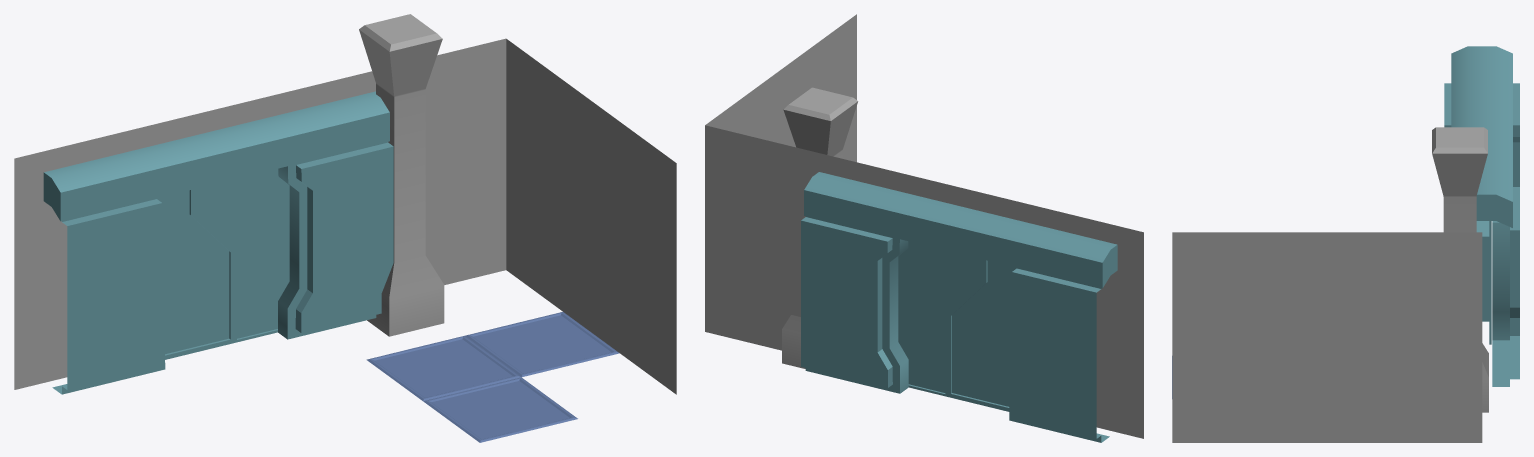
File: LAB_BASE_V3_ConNuevoPilar.fbx
3 renders of one model, left to right at view 1: azimuth 30°, elevation 25°; view 2: azimuth 150°, elevation 25°; view 3: azimuth 270°, elevation 25°, orthographic. The views are drawn at different scales.
Visible parts, largest first — view 1: Base_Puerta, Esquina, Pilar, Pared, Pared_02, Puerta_02, Puerta_01, pCube33, pCube34, pCube32; view 2: Base_Puerta, Esquina, Puerta_02, Puerta_01, Pilar, Pared_02, Pared; view 3: Pared, Pared_02, Esquina, Base_Puerta, Pilar, Puerta_01.
Boxes of the visible parts, <box> form: Base_Puerta: <box>14,71,393,394</box>; Esquina: <box>425,38,562,311</box>; Pilar: <box>359,14,444,336</box>; Pared: <box>563,80,619,352</box>; Pared_02: <box>620,122,676,394</box>; Puerta_02: <box>153,189,234,359</box>; Puerta_01: <box>195,168,289,342</box>; pCube33: <box>423,377,577,442</box>; pCube34: <box>465,312,619,377</box>; pCube32: <box>366,336,520,401</box>; Base_Puerta: <box>793,147,1143,442</box>; Esquina: <box>705,88,792,350</box>; Puerta_02: <box>947,259,1019,411</box>; Puerta_01: <box>898,241,982,396</box>; Pilar: <box>782,87,858,368</box>; Pared_02: <box>806,14,856,162</box>; Pared: <box>755,51,806,147</box>; Pared: <box>1275,232,1378,442</box>; Pared_02: <box>1172,232,1275,442</box>; Esquina: <box>1379,232,1482,442</box>; Base_Puerta: <box>1444,46,1519,386</box>; Pilar: <box>1432,127,1488,412</box>; Puerta_01: <box>1476,221,1491,344</box>.
Size of the model in its own units: 20 by 11.23 by 13.47.
